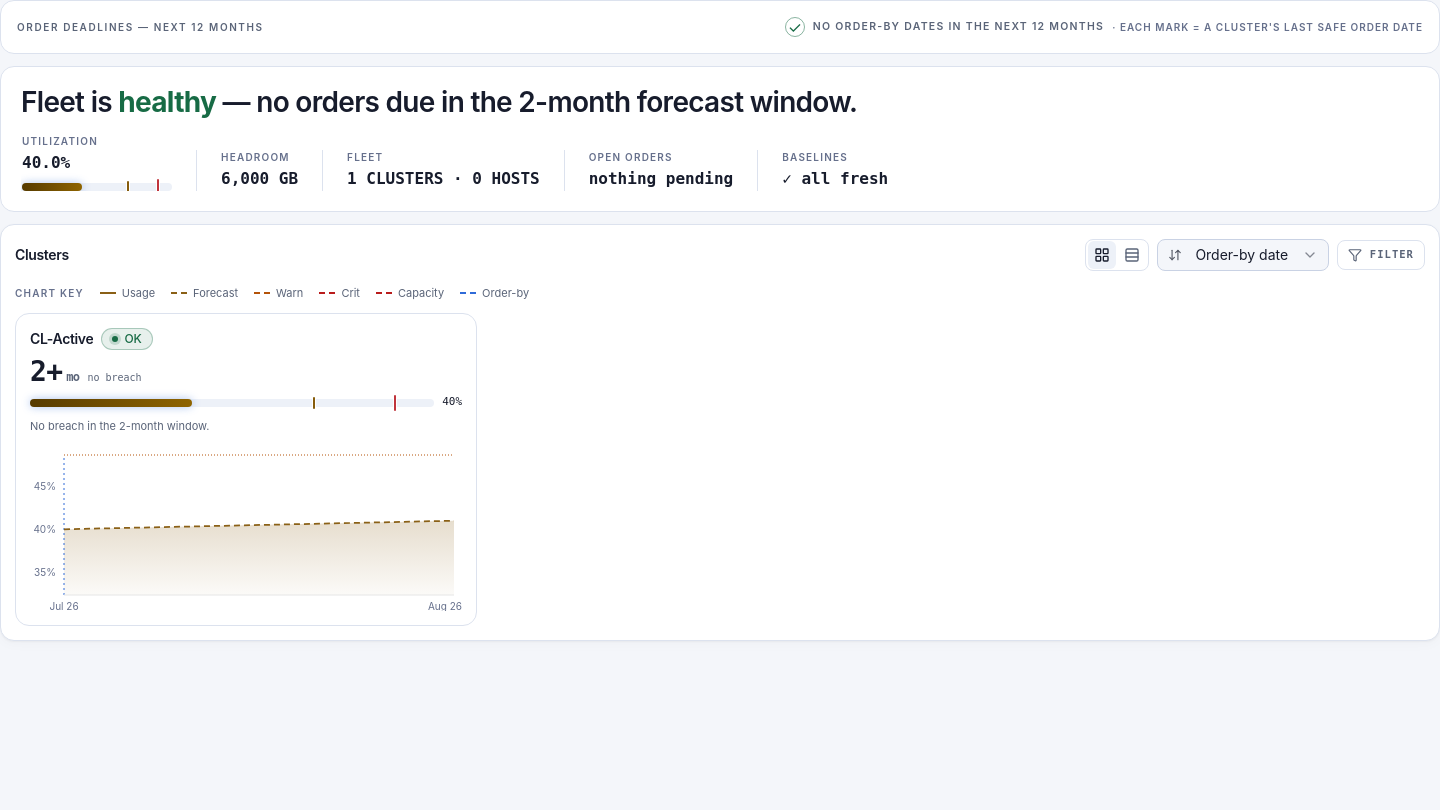
Test case: <FleetConsole> (render) › renders an archived cluster tile with an em dash instead of a synthetic "0+" (finding 3)
The image size is (1440, 810).
Expected: the text "CL-Active" is shown, [30,329,93,349]
// #243: the archived toggle lives in the Filter popover on the toolbar.
Click the button with test id "fleet-filter-button": (1381, 255) [1337,240,1425,270]
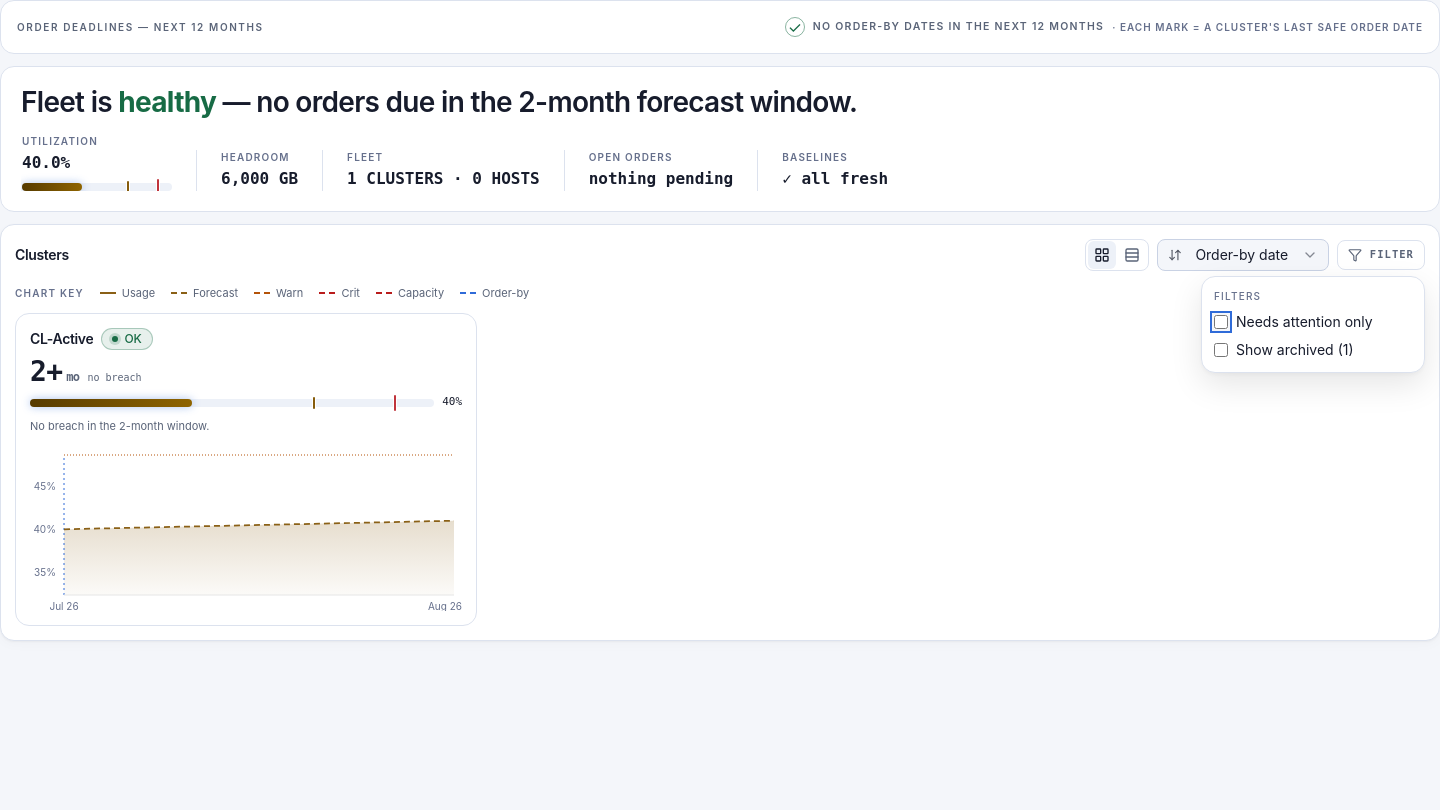
Click the checkbox labelled "Show archived (1)": (1221, 350) [1214,343,1228,357]
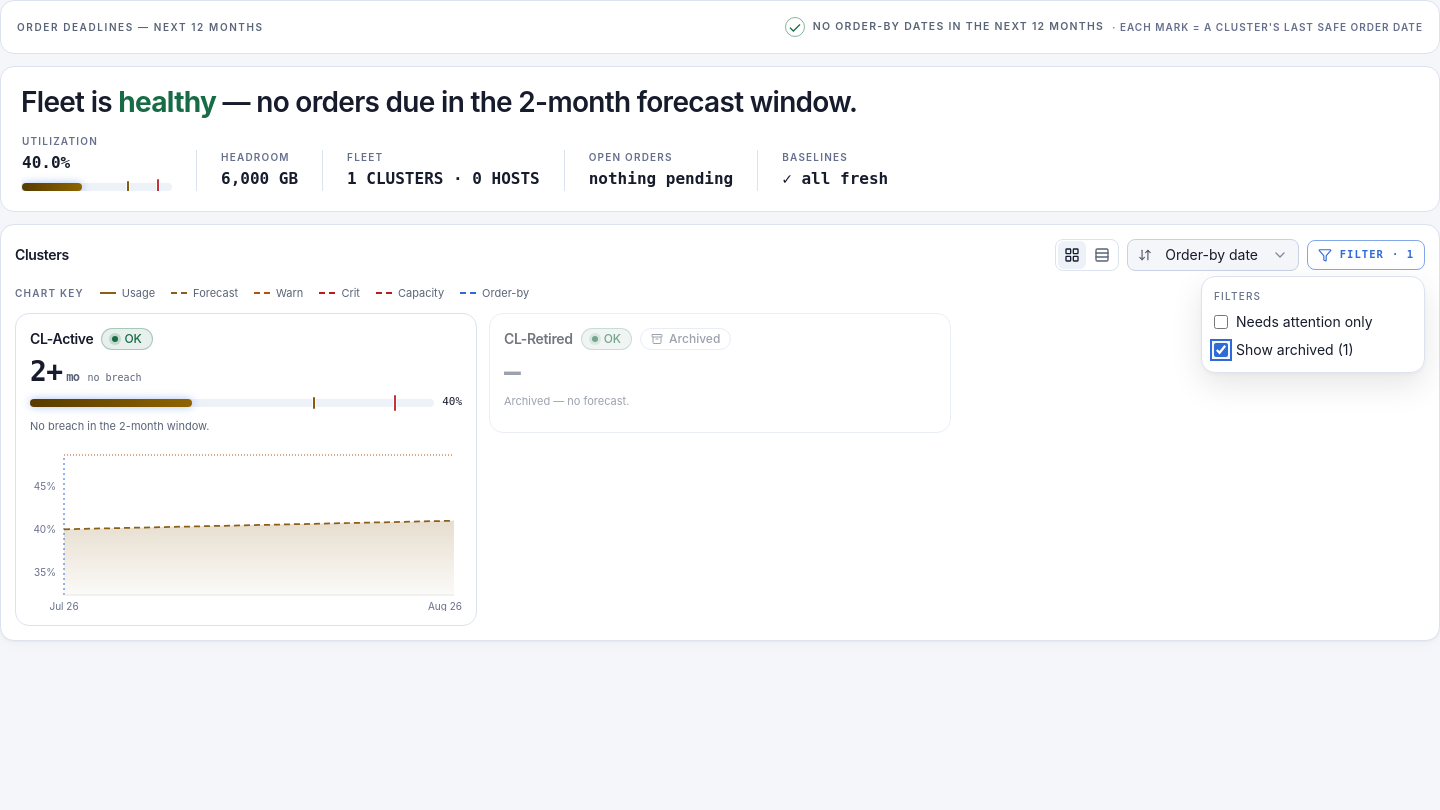
Result: the text "CL-Retired" is shown at [504,329,573,349]
Result: the link "CL-Retired" is shown at [489,313,951,433]
Result: the text "—" is shown at [504,358,520,386]
